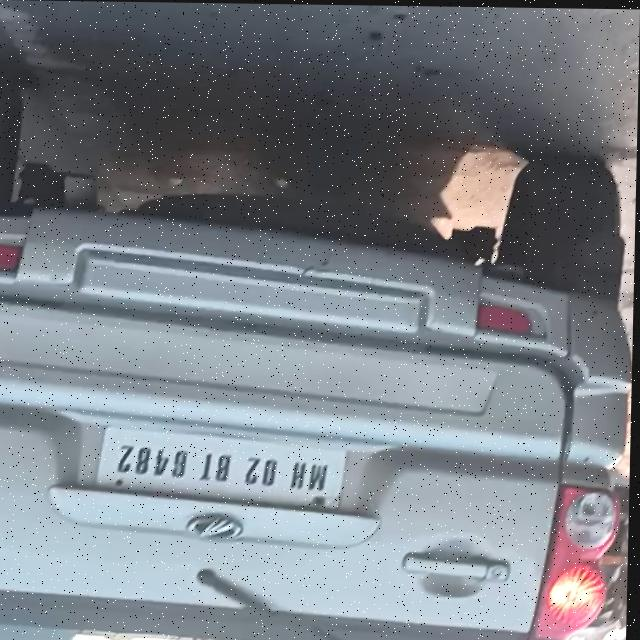plate: (98, 425, 352, 509)
